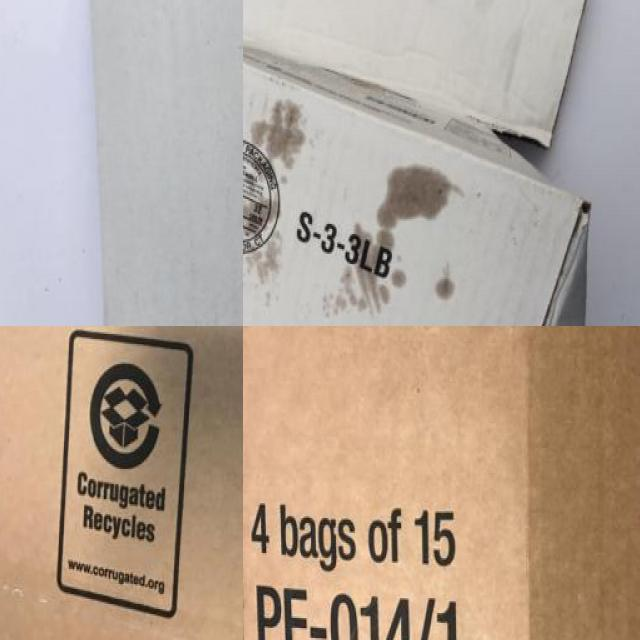class_name: (243, 326, 640, 640), (243, 0, 611, 326), (0, 326, 243, 640), (40, 0, 243, 326)
